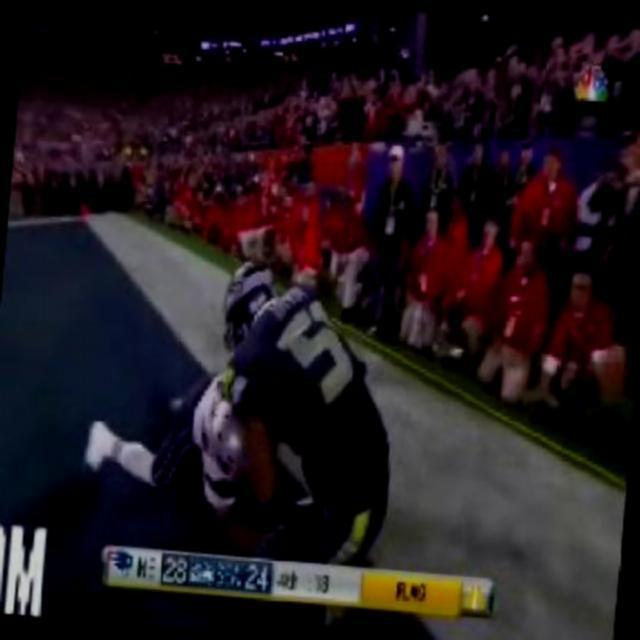fight: (77, 247, 412, 562)
